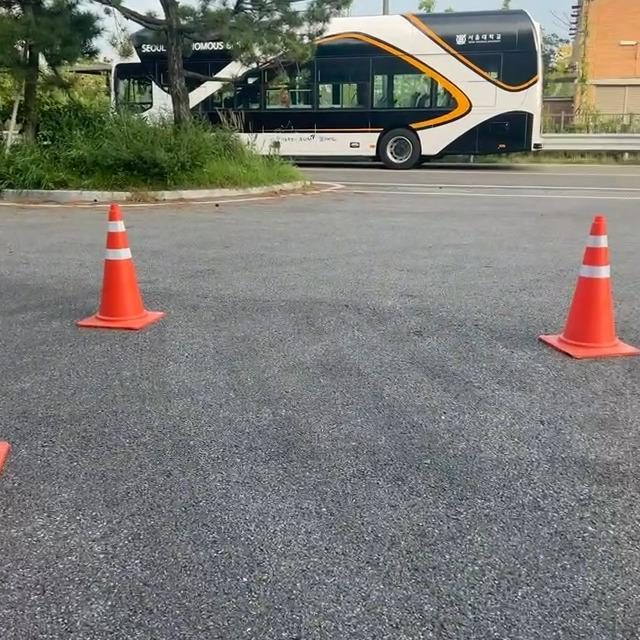fallen_object: (67, 147, 205, 360), (520, 165, 640, 386)
